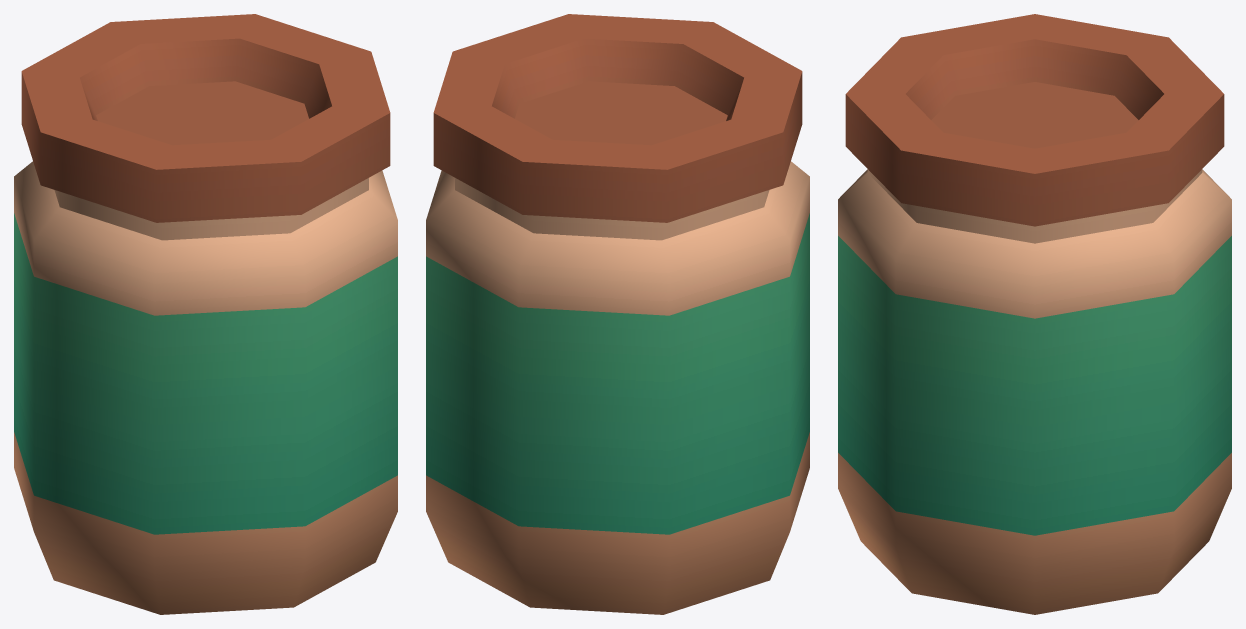
File: peanut-butter.glb
The picture shows the model from 3 angles, left to right: view 1: azimuth 30°, elevation 25°; view 2: azimuth 150°, elevation 25°; view 3: azimuth 270°, elevation 25°; orthographic projection.
Visible parts, largest first — view 1: peanut-butter; view 2: peanut-butter; view 3: peanut-butter.
Part boxes in pixels (<box>): peanut-butter: <box>14,14,397,614</box>; peanut-butter: <box>426,14,809,614</box>; peanut-butter: <box>838,14,1231,614</box>.
Size of the model in its own units: 0.236 by 0.2958 by 0.236.
Materials: 1 (1 with a texture image).
